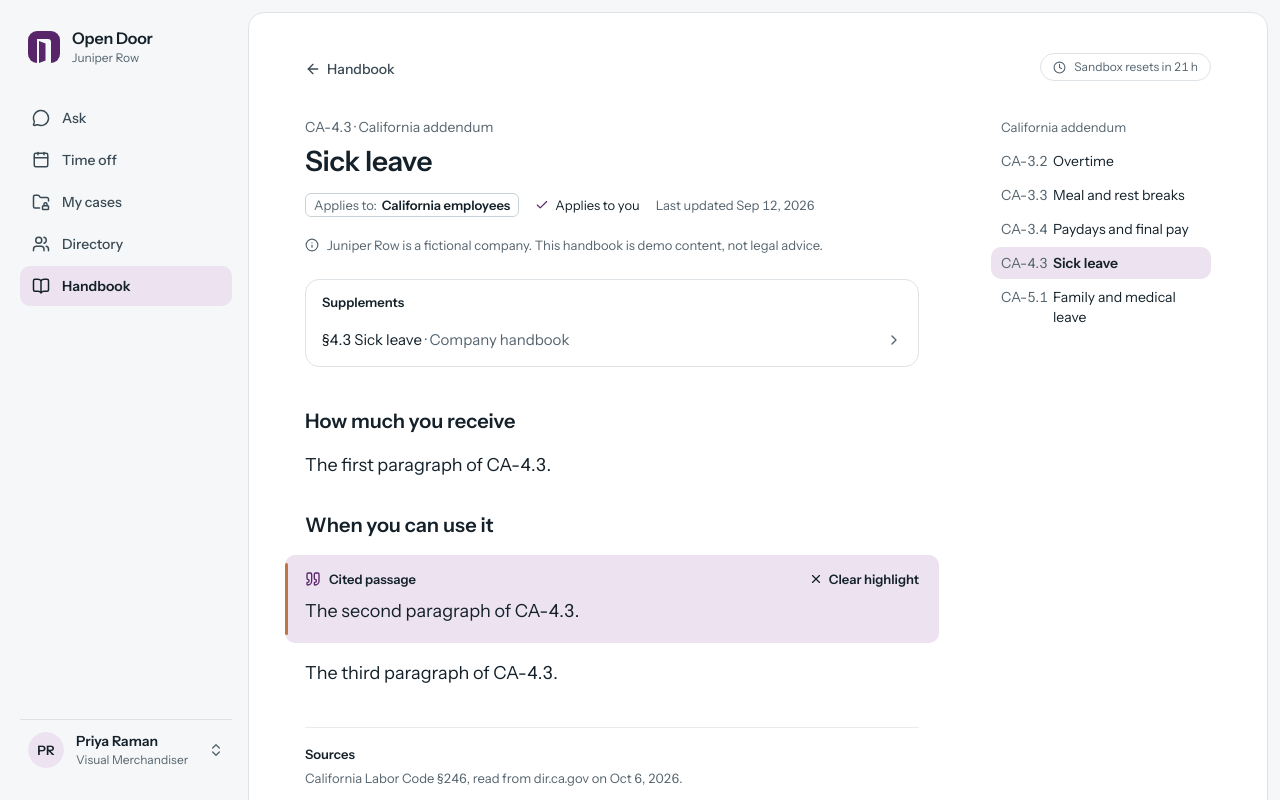
Test: a cited passage (?passage=p2) › "Clear highlight" removes the passage from the URL without adding a history entry
Expected: the element "Cited passage" is shown, left=285, top=555, right=939, bottom=643
Click the button "Clear highlight". click: (864, 579)
box: left=801, top=565, right=927, bottom=593
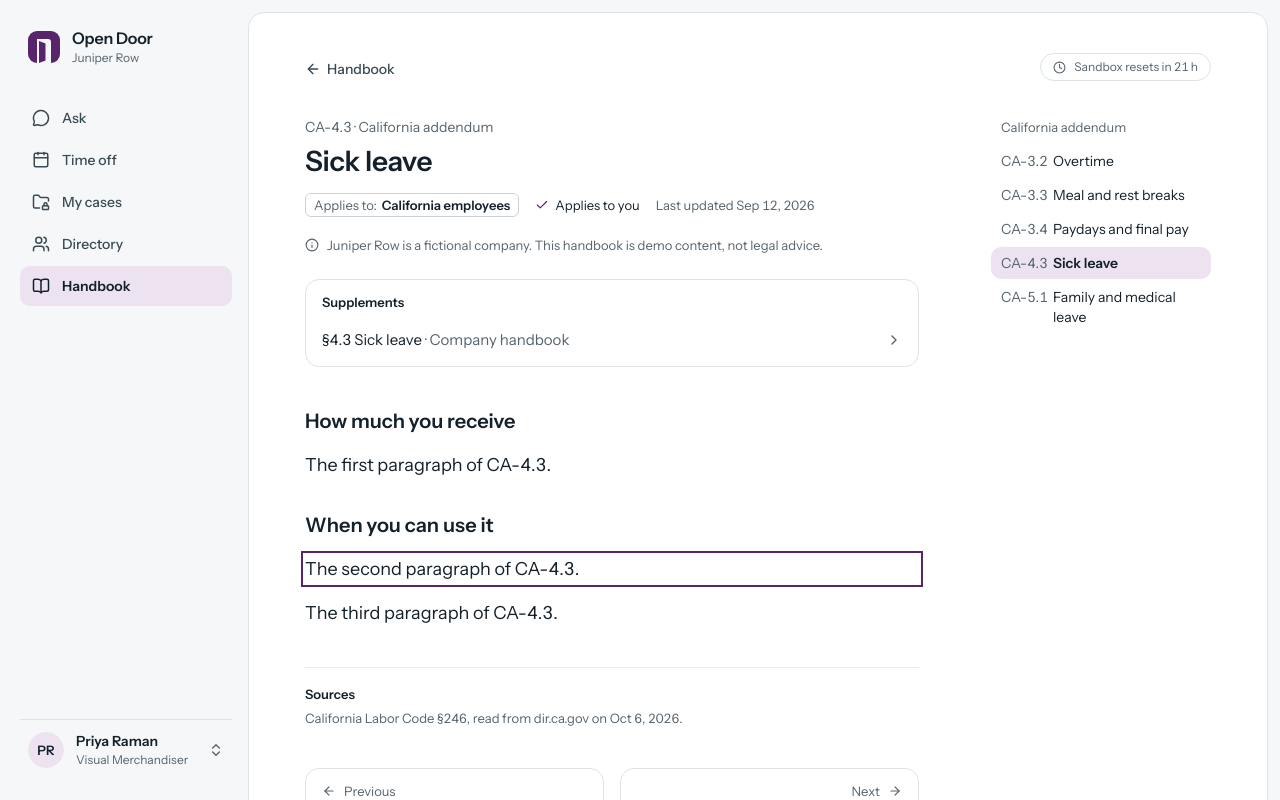
Expected: the text "The second paragraph of CA-4.3." is shown, left=305, top=558, right=579, bottom=580
Expected: the element "Cited passage" is gone
